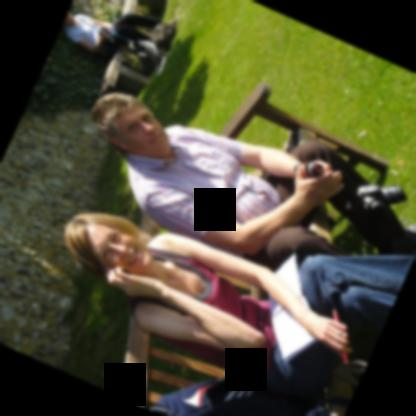backpack: (149, 373, 293, 416)
